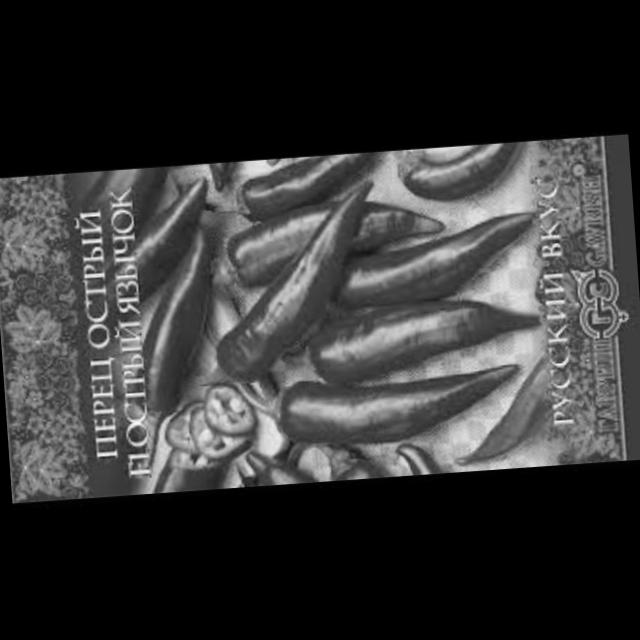hot pepper: (172, 171, 398, 409), (236, 358, 530, 468), (288, 281, 554, 398), (107, 230, 236, 452), (300, 206, 556, 316), (214, 196, 453, 306), (91, 178, 215, 326), (448, 355, 574, 467), (215, 154, 390, 232), (138, 385, 256, 496), (387, 142, 550, 222), (226, 442, 322, 489), (304, 434, 388, 484), (382, 439, 446, 480)
